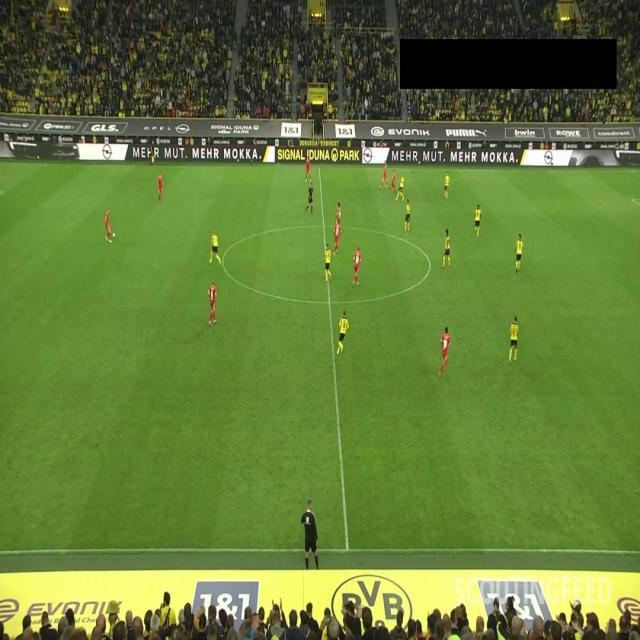ball: (364, 194, 368, 233), (112, 232, 116, 239)
player: (439, 326, 452, 378), (337, 310, 350, 355), (509, 316, 520, 365), (207, 280, 218, 328), (209, 230, 222, 265), (441, 228, 452, 269), (515, 233, 525, 274), (352, 246, 361, 286), (325, 242, 333, 282), (333, 203, 342, 236), (395, 172, 405, 201), (105, 207, 113, 243), (333, 219, 341, 254), (474, 203, 482, 237), (379, 162, 389, 189), (404, 198, 411, 232), (444, 171, 451, 200), (389, 170, 397, 194), (305, 157, 312, 184), (157, 173, 163, 203)
referee: (305, 182, 314, 214), (150, 139, 156, 165)
